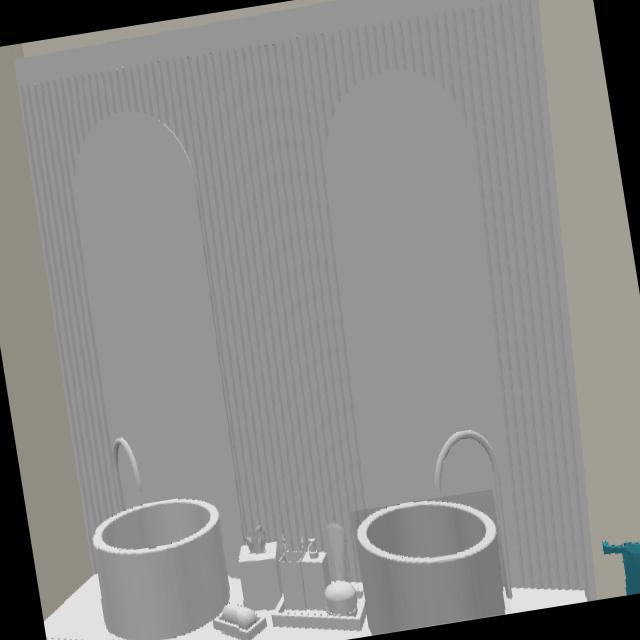washbasin: (354, 502, 507, 635), (93, 498, 231, 640)
